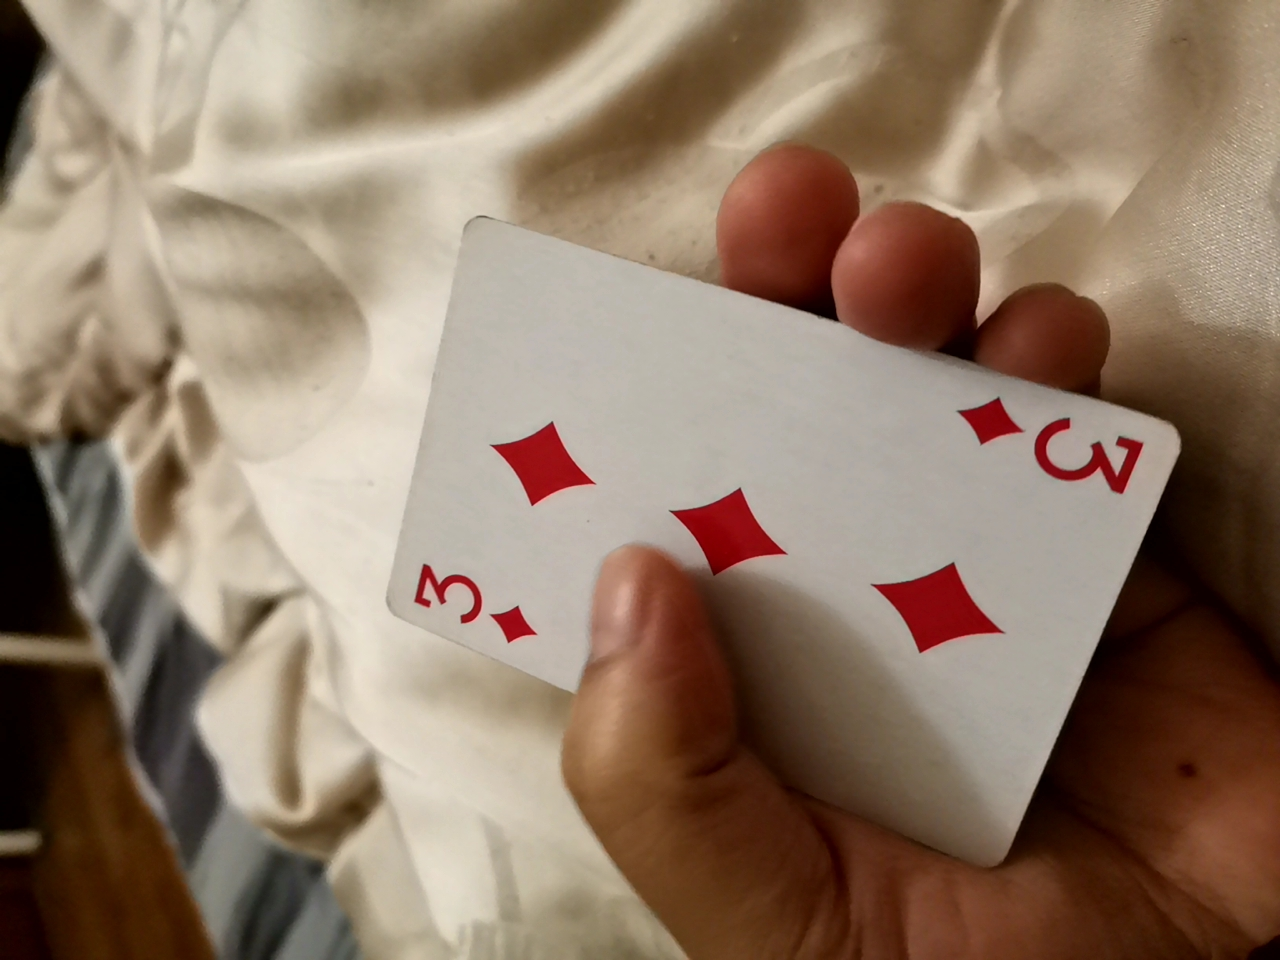fk 3: (375, 226, 1178, 876)
